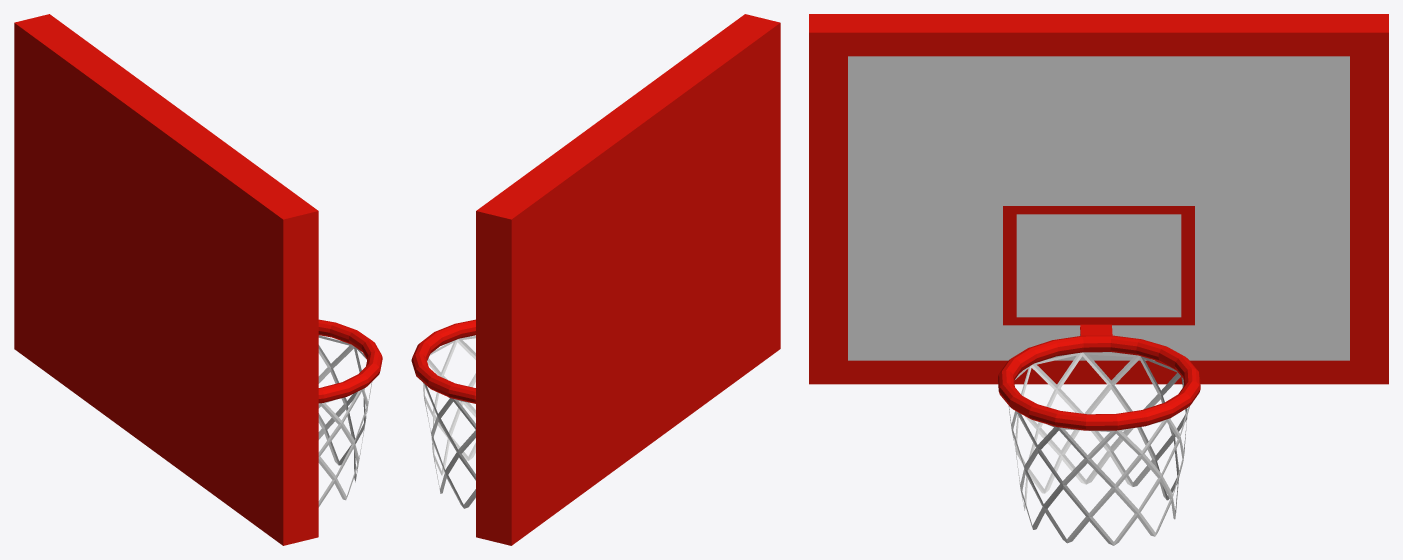
The model's file is hoop notBased.fbx.
3 views of the same model, side by side, from view 1: azimuth 30°, elevation 25°; view 2: azimuth 150°, elevation 25°; view 3: azimuth 270°, elevation 25° (orthographic). The views are drawn at different scales.
Parts seen in each view (by area): view 1: Cube; view 2: Cube; view 3: Cube.
Part boxes in pixels (bbox=[...]): Cube: bbox=[14, 14, 382, 545]; Cube: bbox=[411, 14, 780, 545]; Cube: bbox=[809, 14, 1388, 545].
Size of the model in its own units: 163 by 279 by 343.
